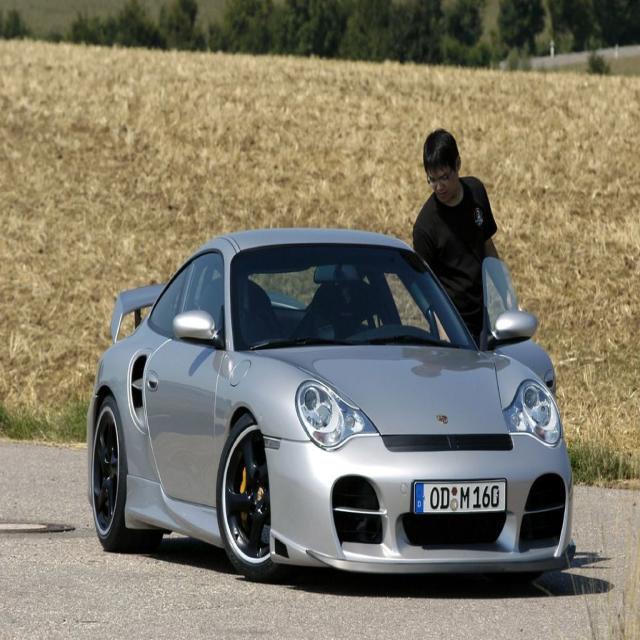car: (87, 226, 573, 590)
